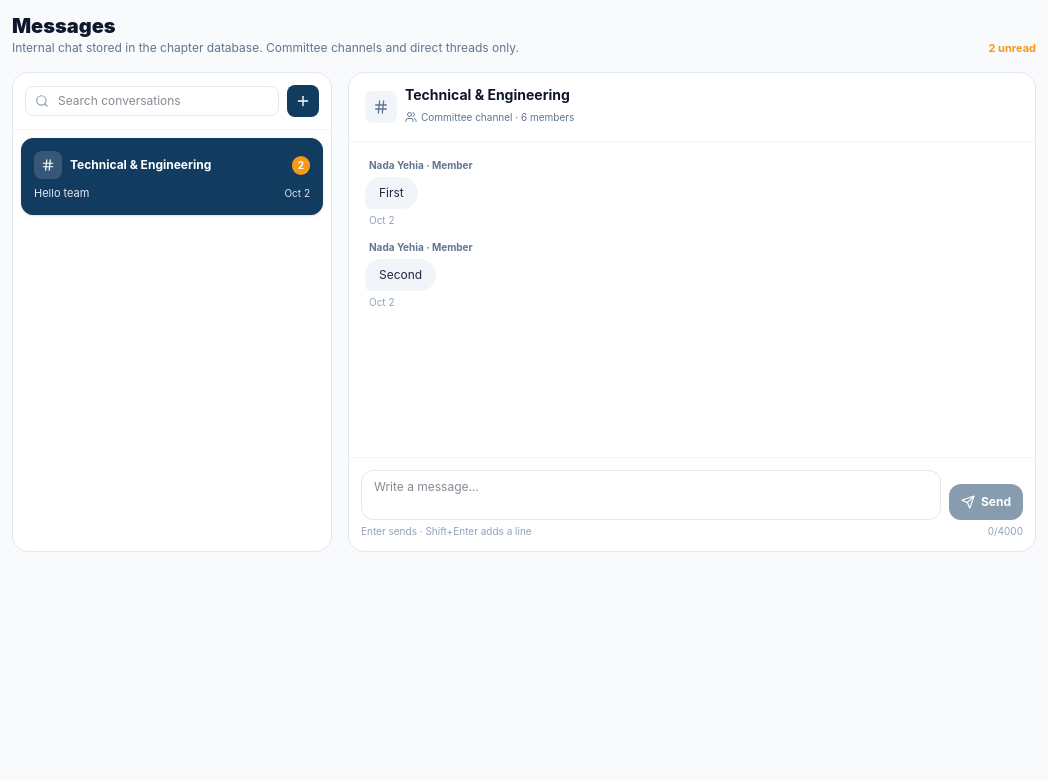
Scenario: with a configured project › sends through the RPC, clears the composer and shows the stored row
In the text box named "Message Technical & Engineering": (651, 495) [361,470,941,520], type "A new note"
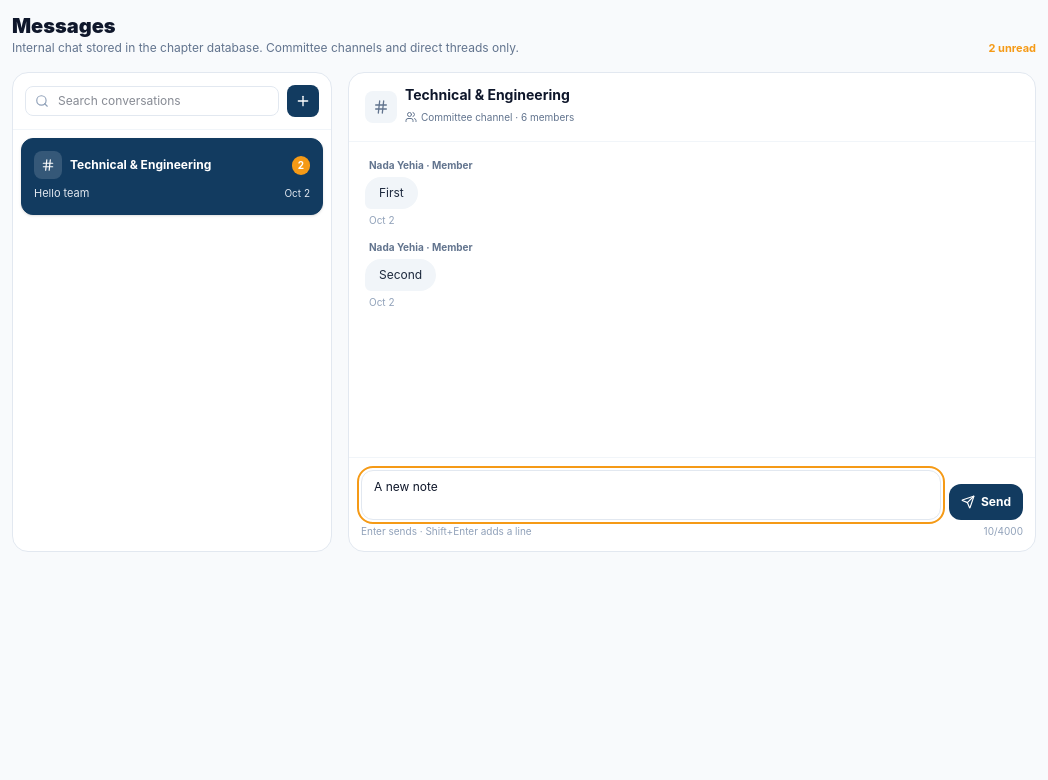
Click the button "Send": (986, 502) [949,484,1023,520]
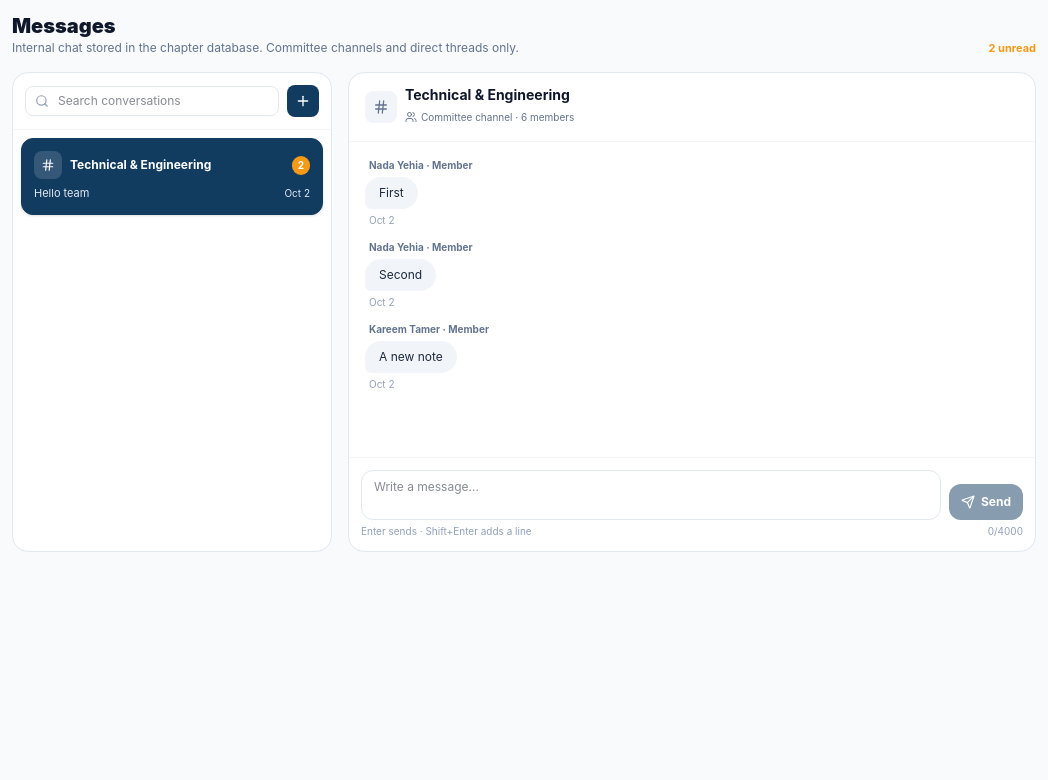
Result: the text "A new note" is shown at [365,341,457,373]
Result: the text box named "Message Technical & Engineering" is empty at [361,470,941,520]
